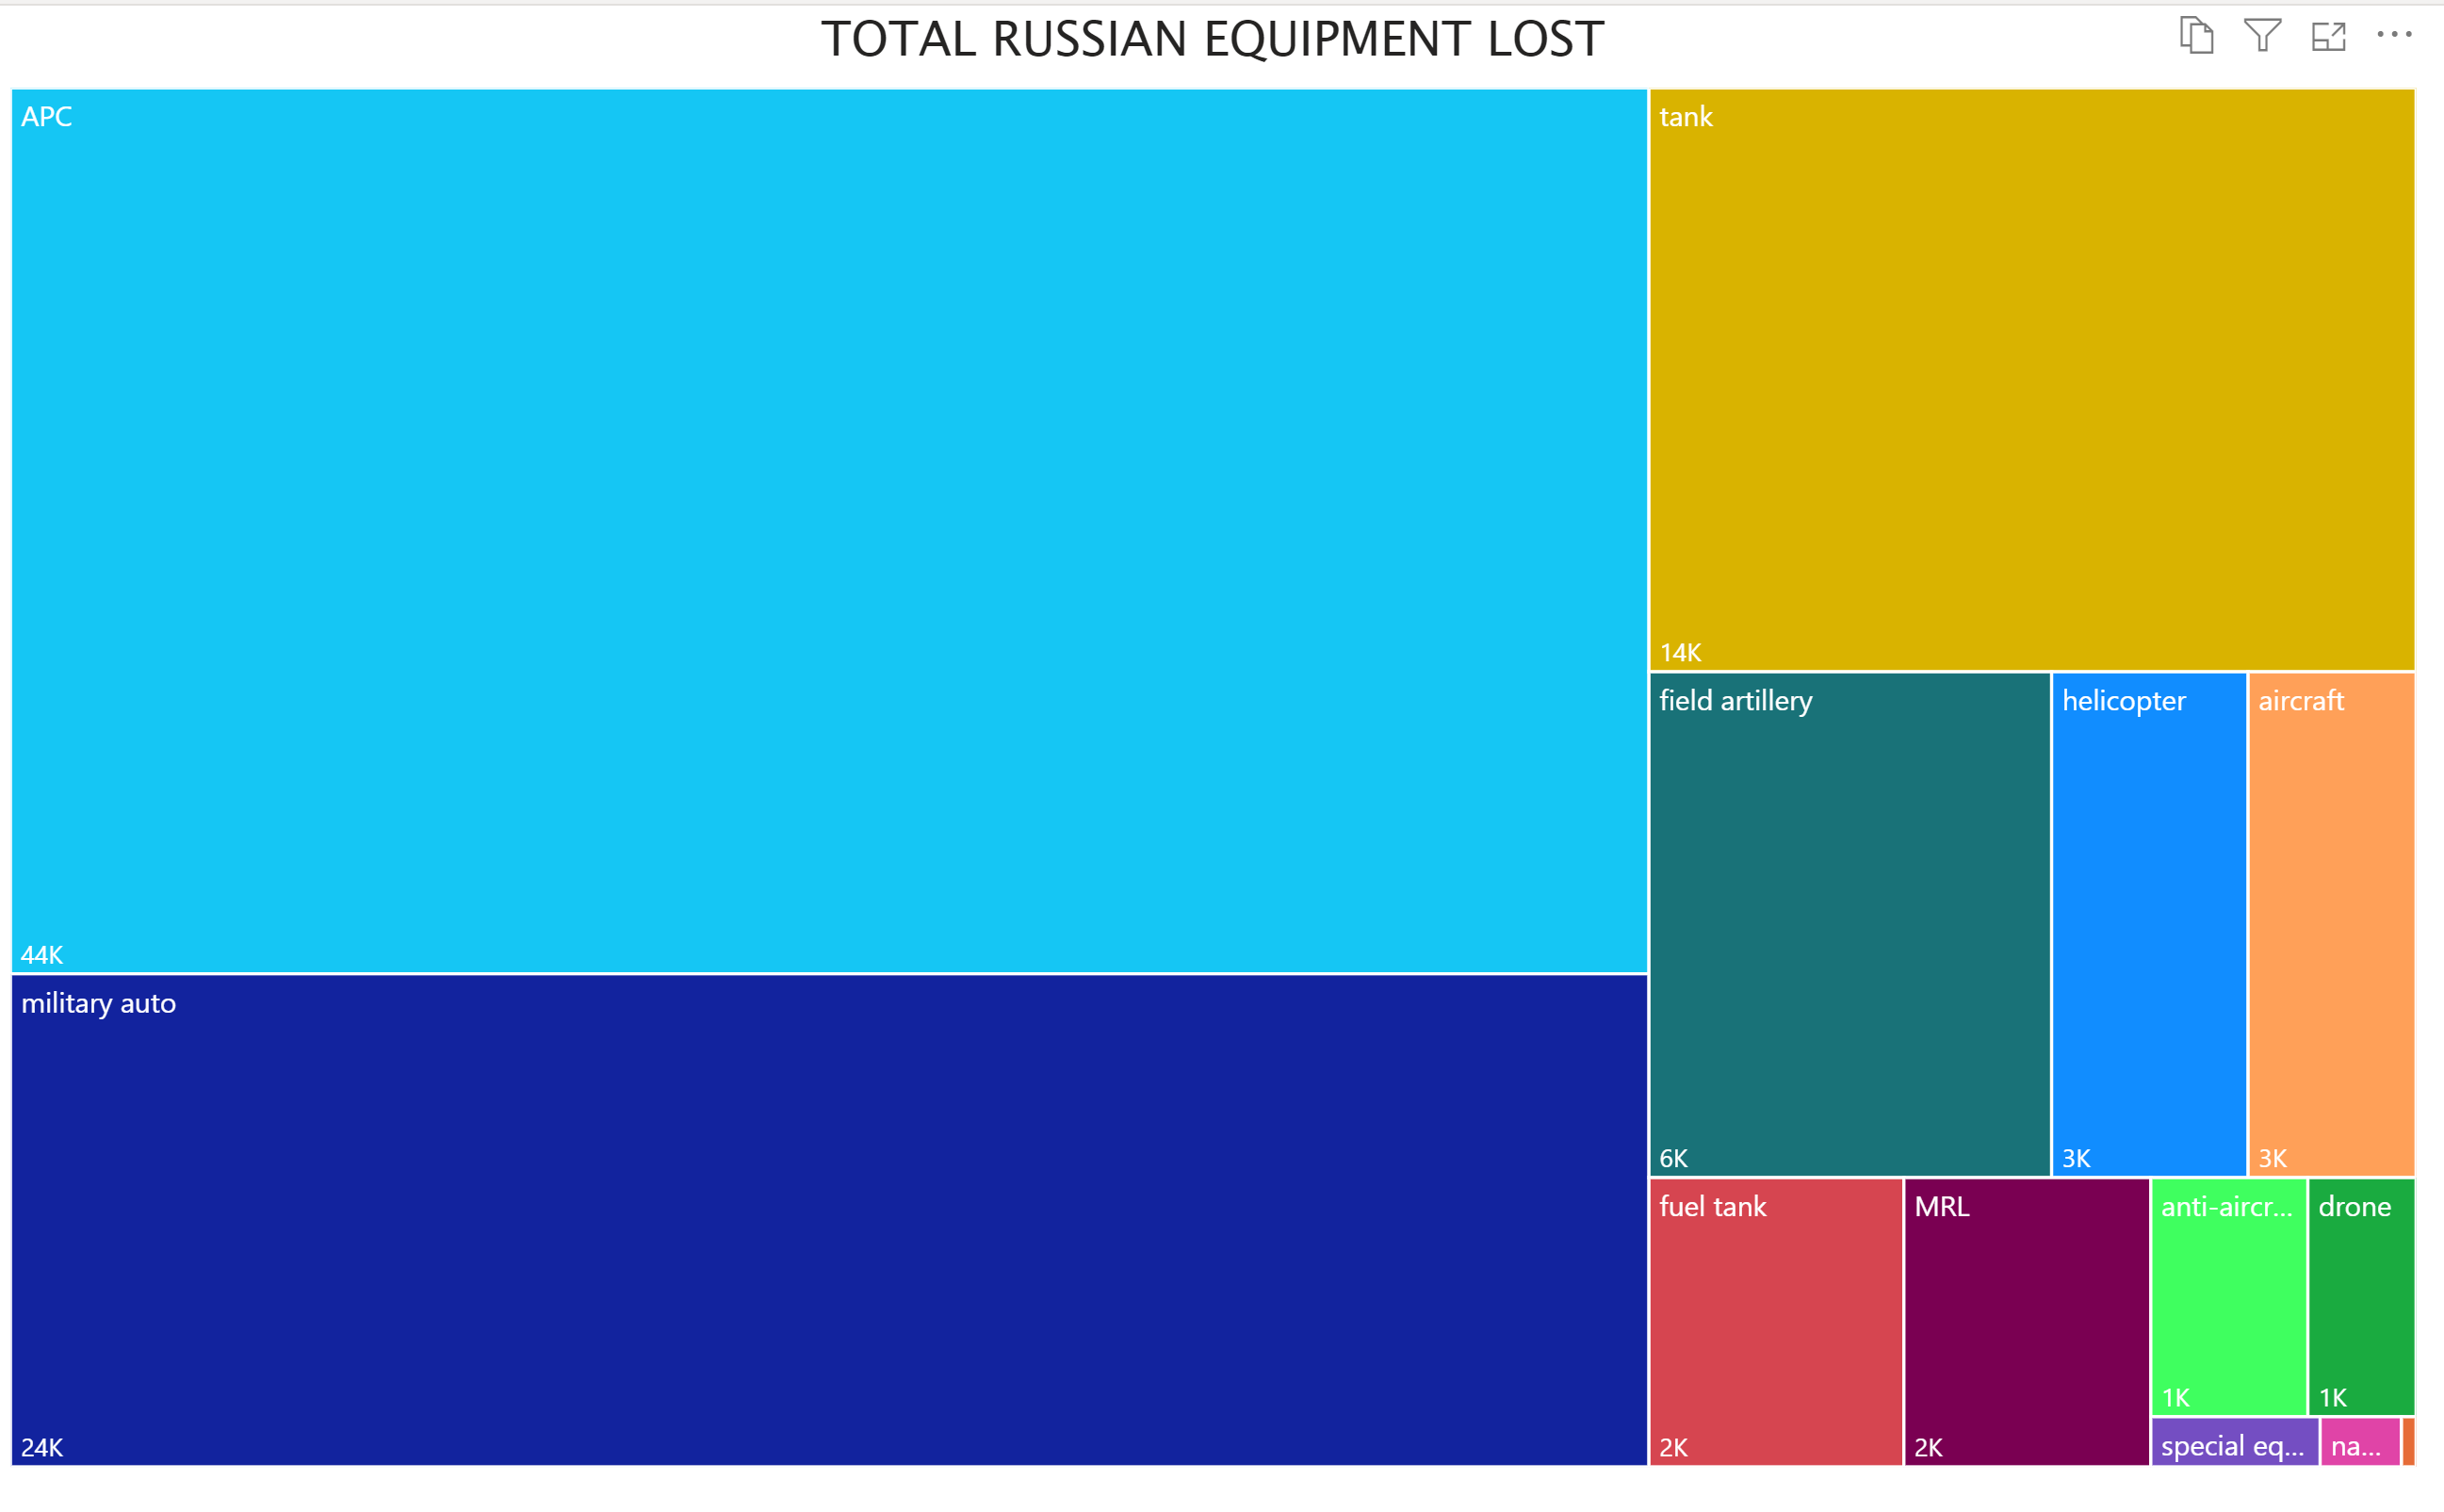

The page's visual inventory and layout, read from the dashboard file:
{"tool":"powerbi","page":{"name":"Page 1","canvas":[1280,720],"ordinal":0},"visuals":[{"type":"treemap","title":"TOTAL RUSSIAN  EQUIPMENT LOST","fields":{"Values":["Sum(russia_losses_equipment.helicopter)","Sum(russia_losses_equipment.military auto)","Sum(russia_losses_equipment.mobile SRBM system)","Sum(russia_losses_equipment.MRL)","Sum(russia_losses_equipment.naval ship)","Sum(russia_losses_equipment.special equipment)","Sum(russia_losses_equipment.tank)","Sum(russia_losses_equipment.fuel tank)","Sum(russia_losses_equipment.field artillery)","Sum(russia_losses_equipment.drone)","Sum(russia_losses_equipment.APC)","Sum(russia_losses_equipment.anti-aircraft warfare)"]},"box":[63.2,9.8,1153.6,700.4],"z":0}]}

Visuals, with their boxes on the page's 1280x720 design canvas (x1, y1, x2, y2). These are canvas units, not pixel positions in the 2444x1512 screenshot, which may show the page scaled, cropped or inside an application window:
"TOTAL RUSSIAN  EQUIPMENT LOST" treemap: <bbox>63, 10, 1217, 710</bbox>
